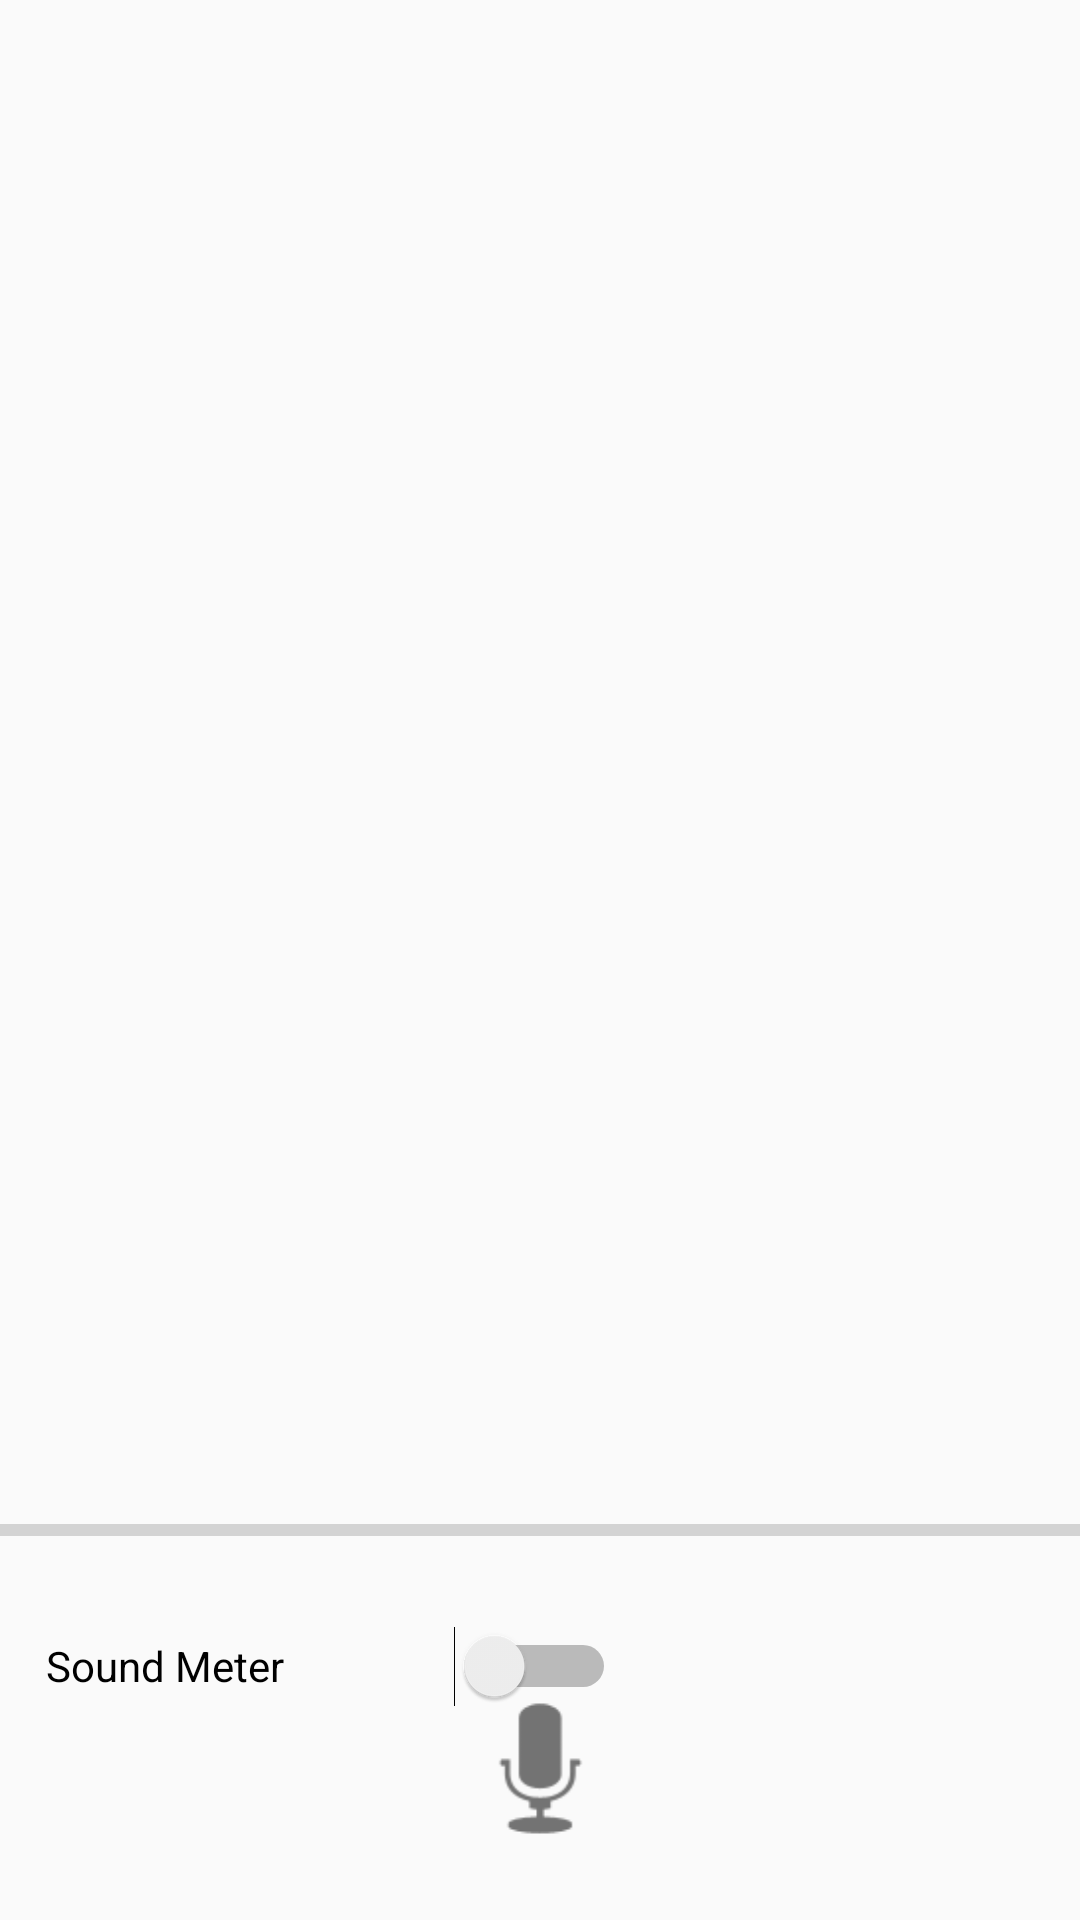

Where icons sit on this 1080px x 1920px app screen, as (x1, y1, x2, y2):
speak now: (499, 1703, 582, 1834)
